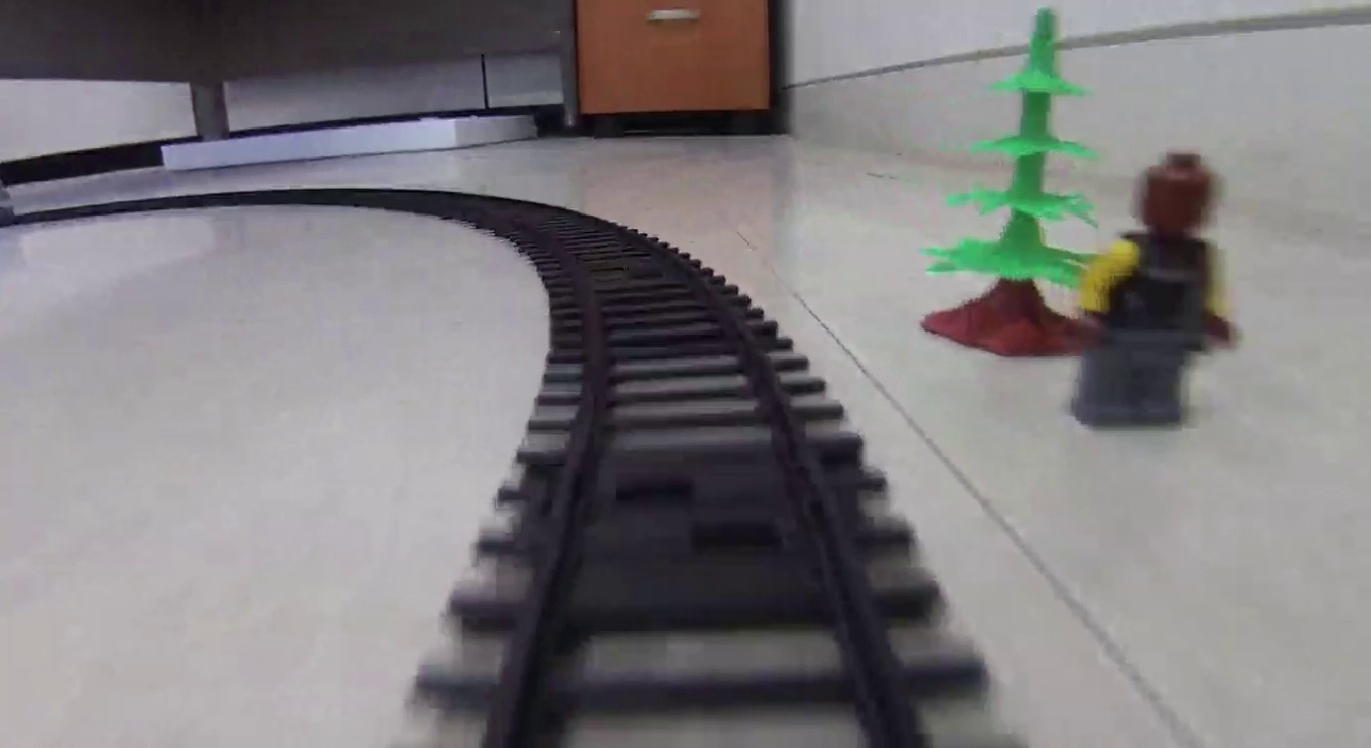people: (1079, 152, 1236, 431)
tree: (923, 14, 1107, 358)
